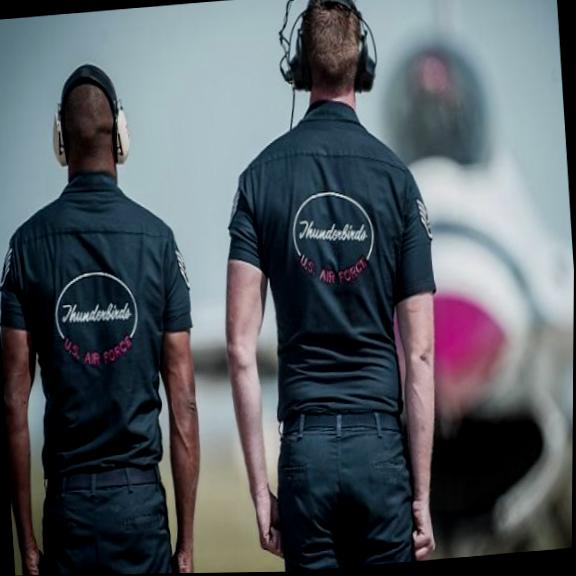no_safety_vest: (226, 107, 441, 444), (0, 172, 191, 472)
